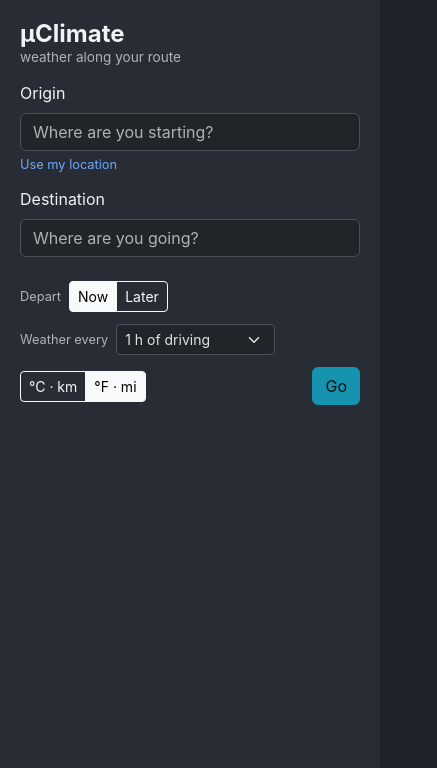
Test: App › renders the trip form with Go disabled until both places are chosen
Expected: the dropdown labelled "Destination" is shown, [20, 219, 360, 257]
Expected: the button "Go" is disabled, [312, 367, 360, 405]
Type "San Jo" into the dropdown labelled "Origin".
click(190, 132); type("San Jo")  # box [20, 113, 360, 151]
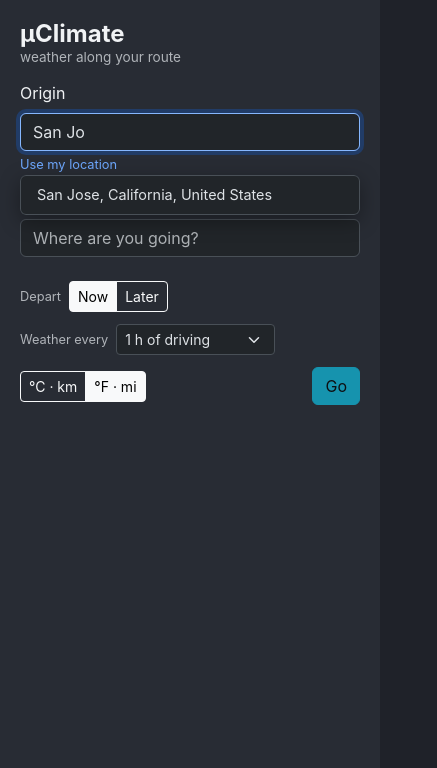
Click the option "San Jose, California, United States".
click(190, 195)  # box [20, 175, 360, 215]
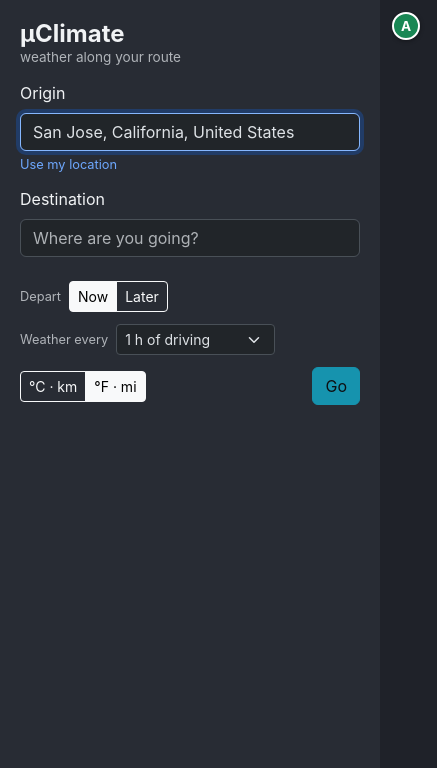
Expected: the button "Go" is disabled, [312, 367, 360, 405]
Type "Los Ang" into the dropdown labelled "Destination".
click(190, 238); type("Los Ang")  # box [20, 219, 360, 257]
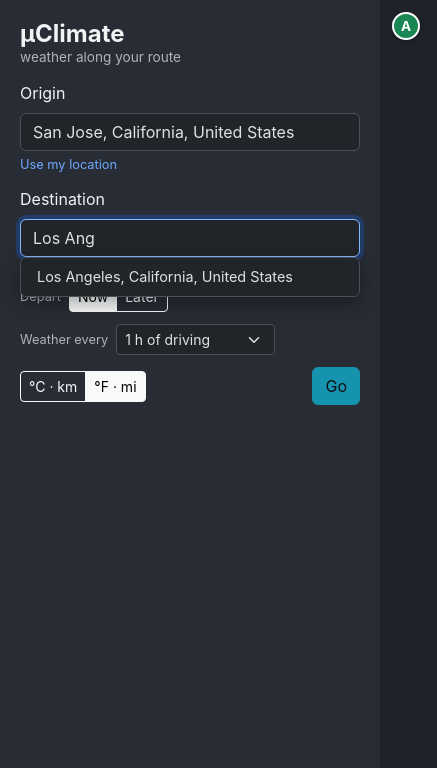
Click the option "Los Angeles, California, United States".
click(190, 277)  # box [20, 257, 360, 297]
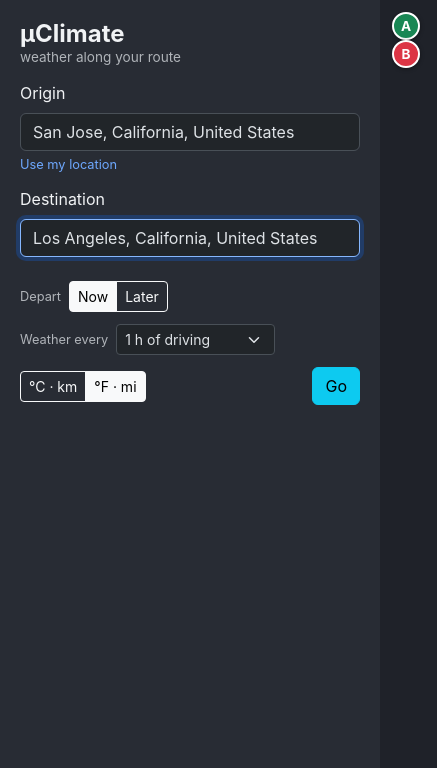
Expected: the button "Go" is enabled, [312, 367, 360, 405]
